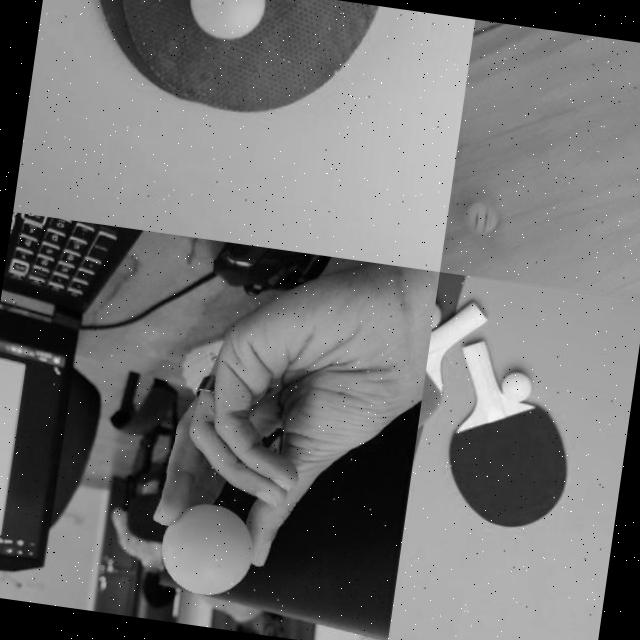ping-pong-ball: (154, 497, 256, 599), (183, 0, 267, 43), (495, 364, 534, 408), (458, 201, 501, 238), (430, 300, 442, 331)
